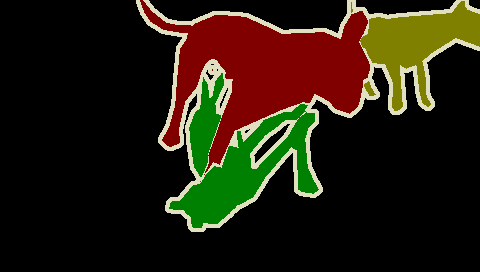dog: (139, 2, 372, 197), (165, 66, 318, 236), (361, 1, 480, 112)
